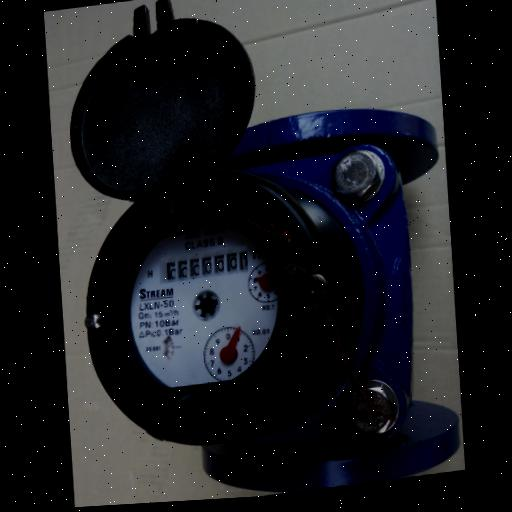0: (214, 258, 225, 273), (227, 255, 238, 270), (202, 260, 212, 276), (190, 263, 200, 278), (166, 267, 176, 281), (178, 265, 188, 279)
1: (240, 252, 249, 268)
border_water_meter_number: (160, 247, 255, 285)
